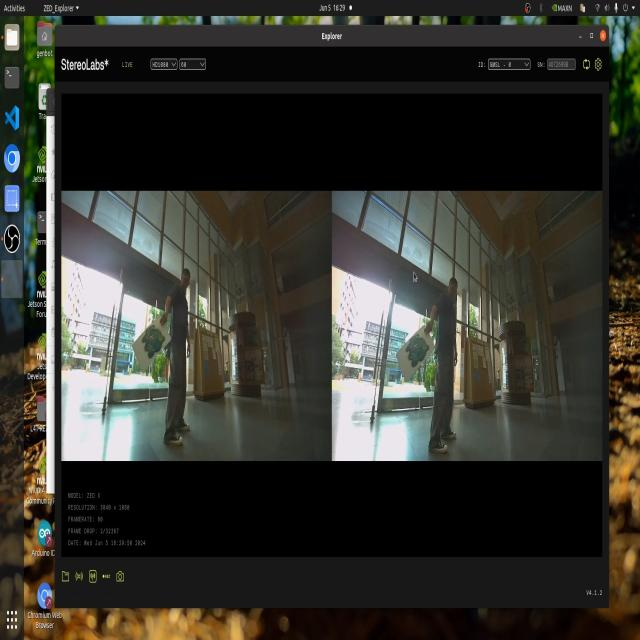green: (401, 324, 432, 374), (139, 323, 167, 363)
